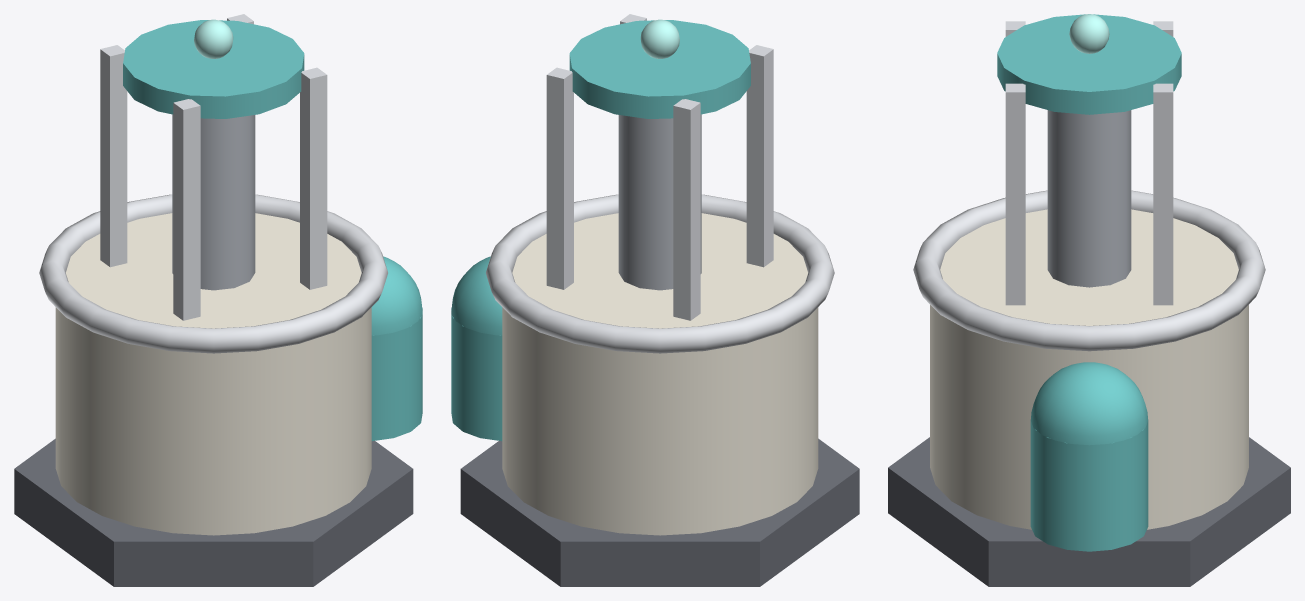
File: ic_miner.glb
The picture shows the model from 3 angles, left to right: view 1: azimuth 30°, elevation 25°; view 2: azimuth 150°, elevation 25°; view 3: azimuth 270°, elevation 25°; orthographic projection.
Parts seen in each view (by area): view 1: ic_miner; view 2: ic_miner; view 3: ic_miner.
Part boxes in pixels (bbox=[...]): ic_miner: bbox=[14, 14, 422, 586]; ic_miner: bbox=[451, 14, 859, 586]; ic_miner: bbox=[888, 14, 1290, 586].
Bounding box in the file's own units: 2.45 × 3.27 × 2.4.
